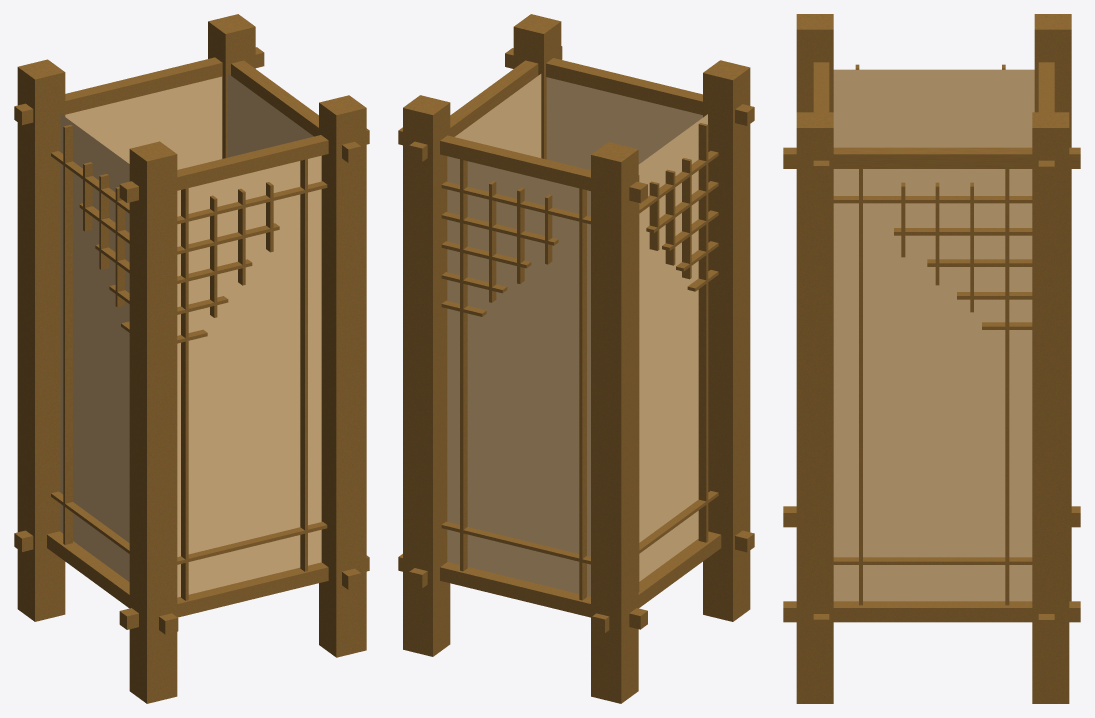
Rendered from NNJ0310006.fbx.
The picture shows the model from 3 angles, left to right: view 1: azimuth 30°, elevation 25°; view 2: azimuth 150°, elevation 25°; view 3: azimuth 270°, elevation 25°; orthographic projection. The views are drawn at different scales.
Visible parts, largest first — view 1: smNNJ0310006; view 2: smNNJ0310006; view 3: smNNJ0310006.
Boxes of the visible parts, left/top/right/bottom form: smNNJ0310006: left=14, top=14, right=369, bottom=703; smNNJ0310006: left=398, top=14, right=754, bottom=703; smNNJ0310006: left=783, top=14, right=1080, bottom=703.
Size of the model in its own units: 77.81 by 166 by 77.52.
1 material, 1 textured.
